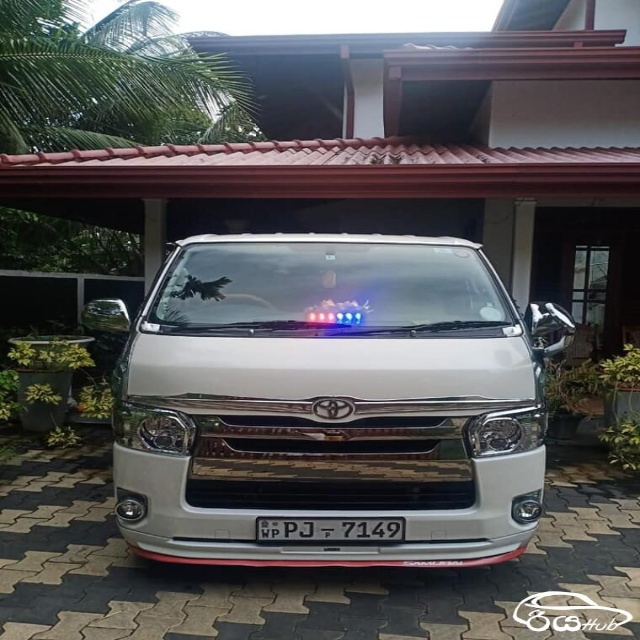Van: (82, 232, 574, 568)
